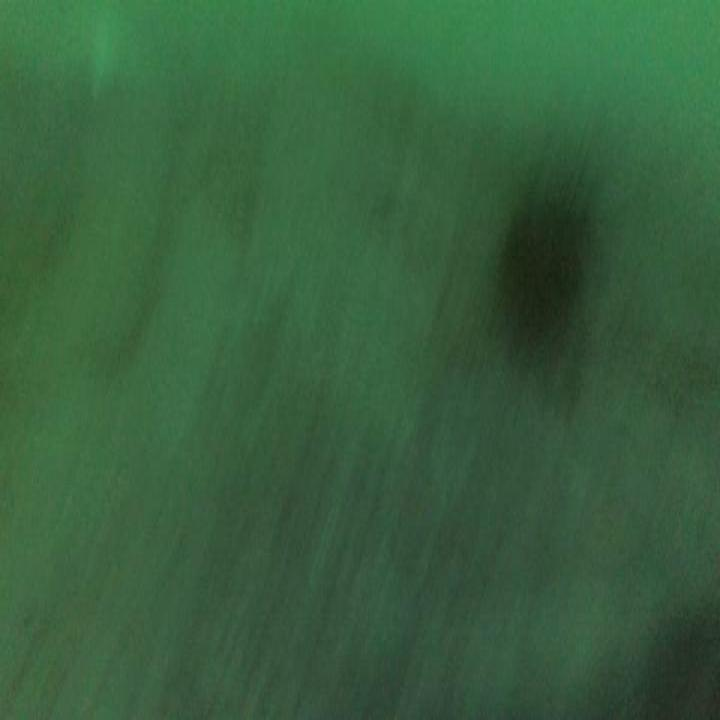echinus: (499, 173, 590, 380)
